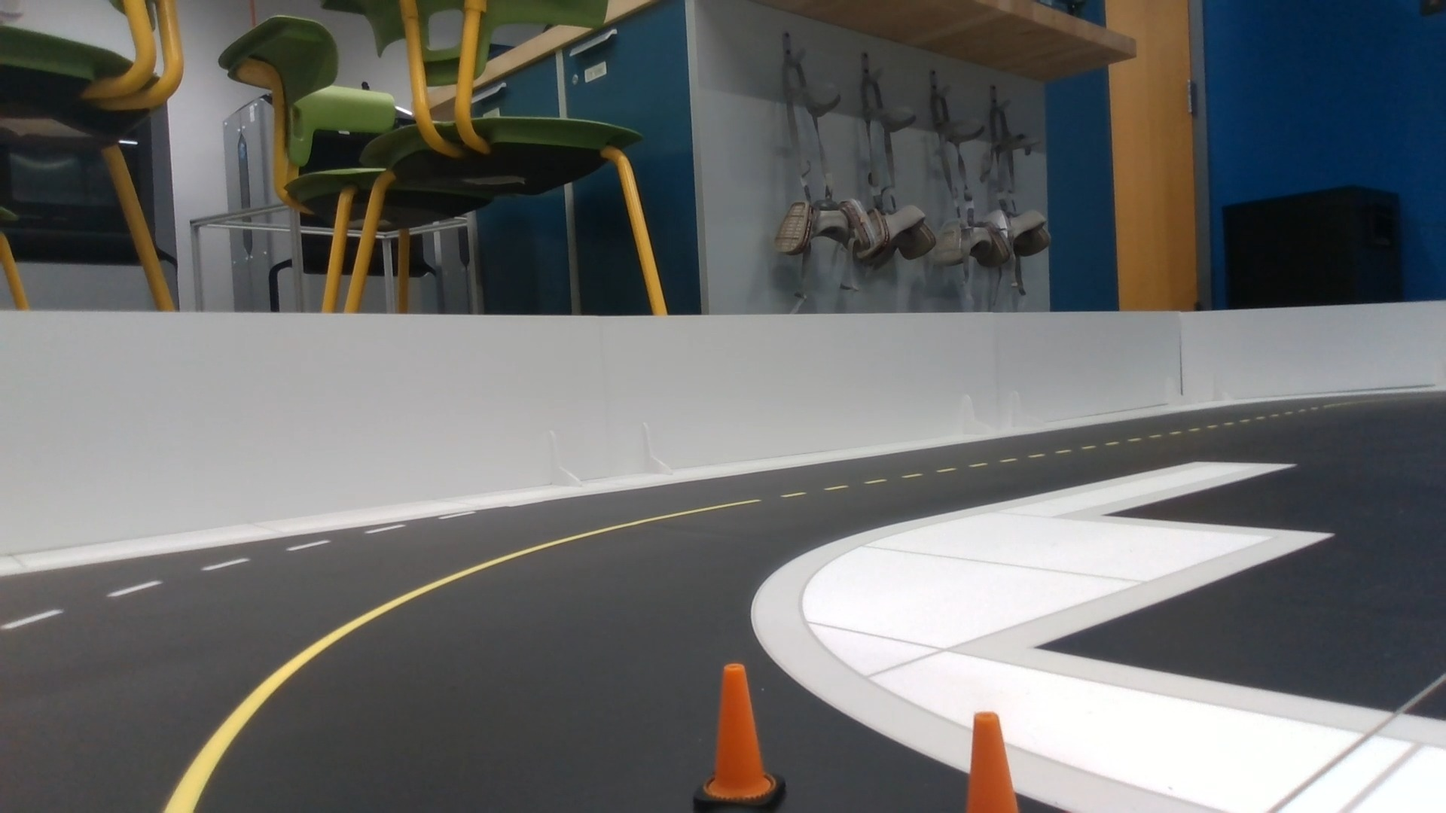Traffic Cone: (694, 664, 784, 810), (966, 712, 1017, 812)
